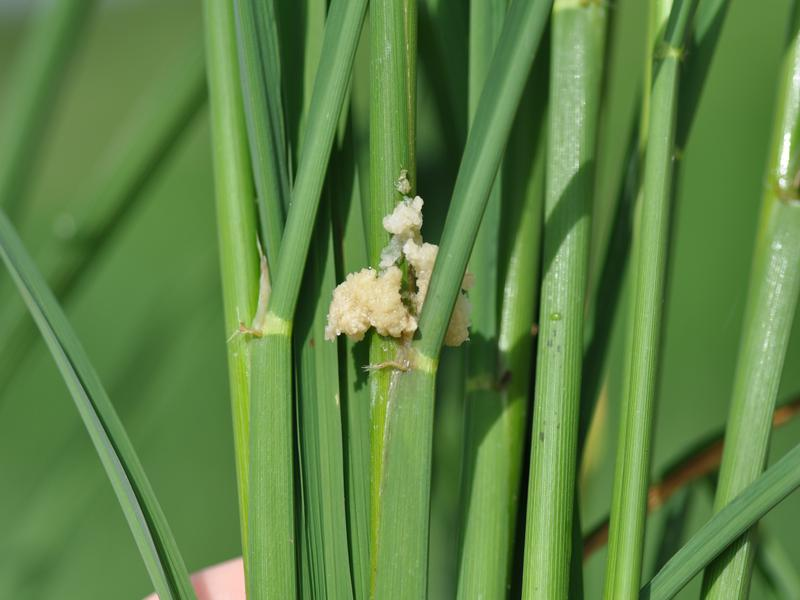Paddy_stemborer: (298, 185, 498, 381)
